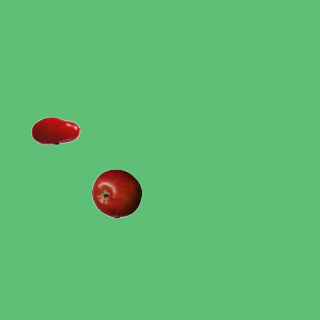Apple Braeburn: (91, 168, 141, 218)
Tomato 2: (30, 105, 80, 155)
